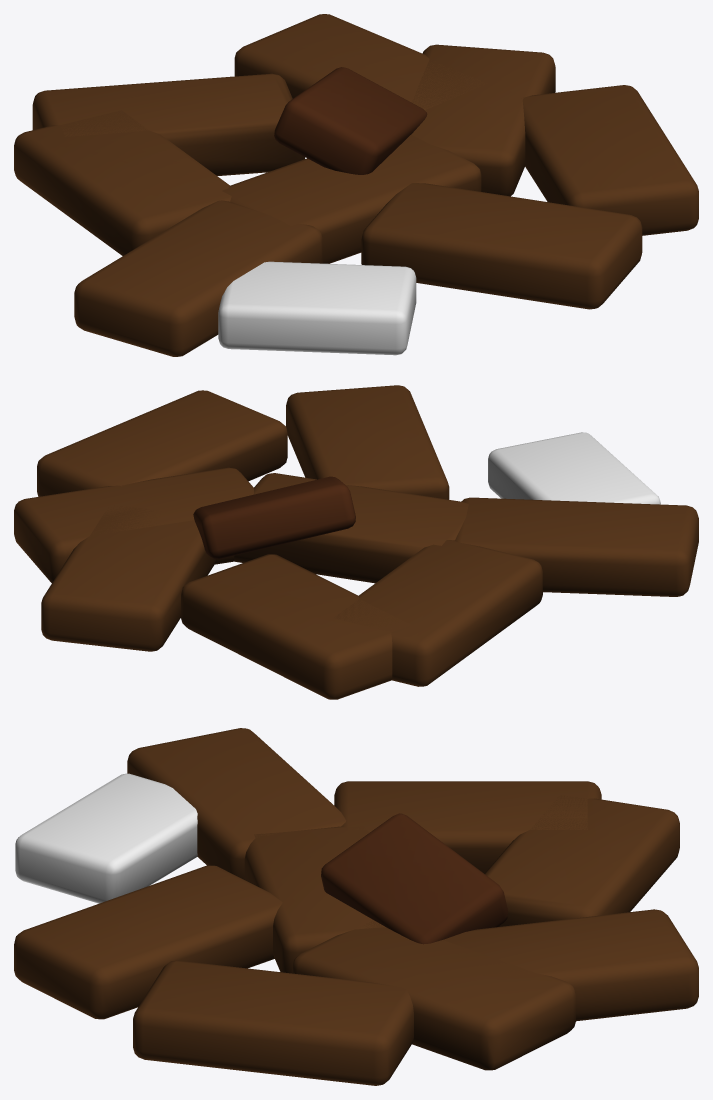
The model's file is wood-chips.obj.
The picture shows the model from 3 angles, top to bottom: view 1: azimuth 30°, elevation 25°; view 2: azimuth 150°, elevation 25°; view 3: azimuth 270°, elevation 25°; orthographic projection. The views are drawn at different scales.
Parts seen in each view (by area): view 1: wood-chips; view 2: wood-chips; view 3: wood-chips.
Boxes of the visible parts, bbox=[...] form: wood-chips: bbox=[14, 14, 698, 356]; wood-chips: bbox=[14, 385, 698, 699]; wood-chips: bbox=[14, 728, 698, 1085].
Bounding box in the file's own units: 0.2661 × 0.0424 × 0.2434.
